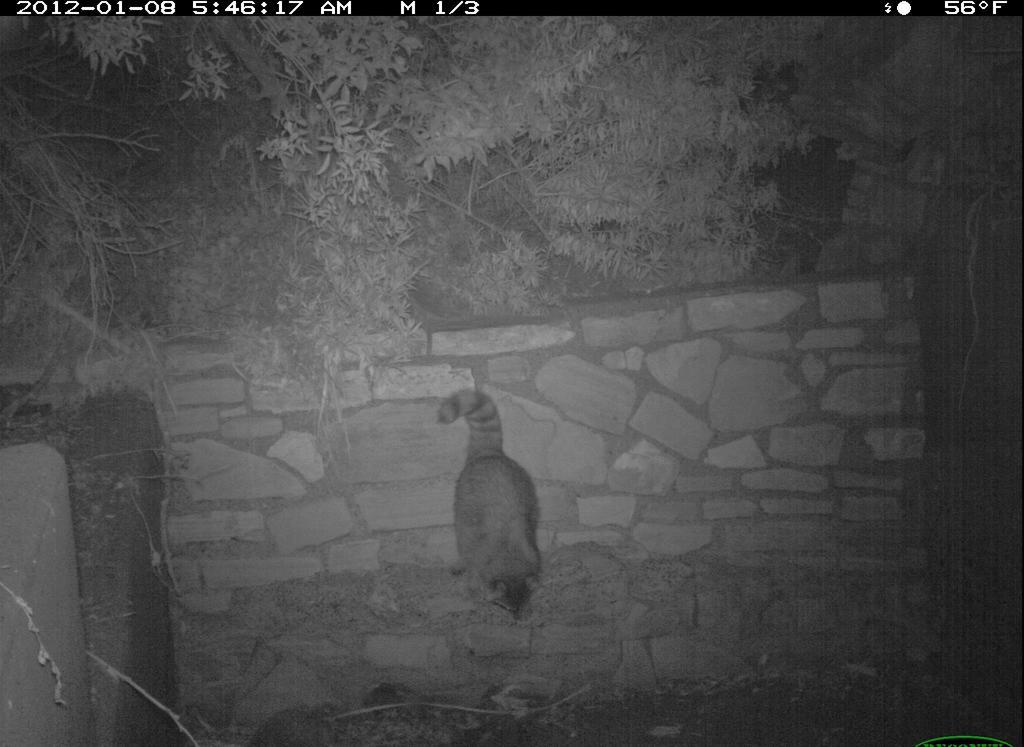raccoon: (431, 386, 553, 629)
